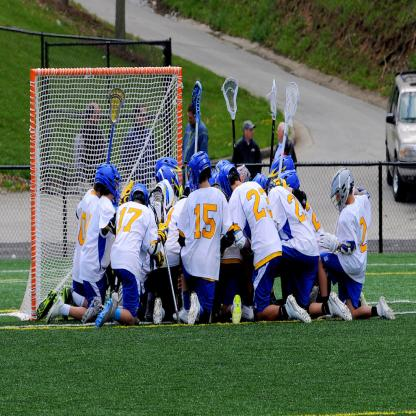Helmet: (329, 166, 354, 215), (96, 162, 122, 202), (187, 151, 212, 192), (217, 161, 242, 199), (156, 165, 181, 197), (153, 157, 182, 183), (152, 180, 175, 211), (272, 171, 302, 191), (270, 155, 294, 177), (129, 183, 151, 206), (250, 172, 271, 192), (208, 171, 222, 190), (238, 162, 250, 182), (215, 158, 228, 171), (182, 182, 191, 193)
